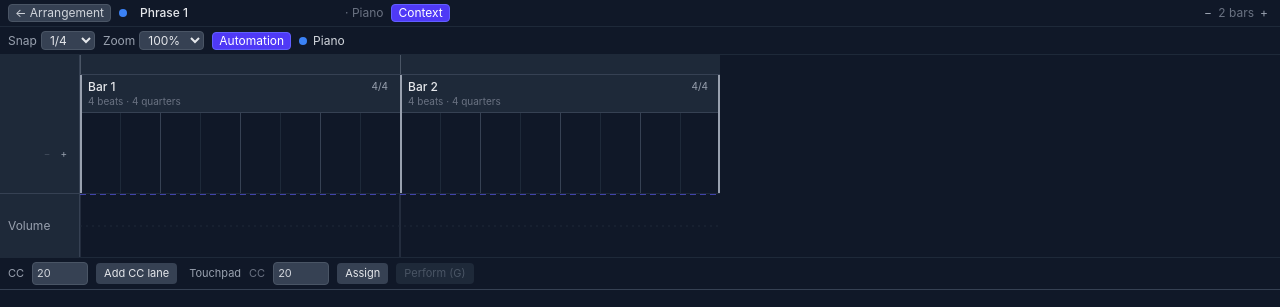
Test case: ChordTimeline volume automation lane › hides the lane, and its gutter label, when toggled off
Step 1. Click the button with aria-label "Automation lanes" → (252, 40), box [212,32,291,50]
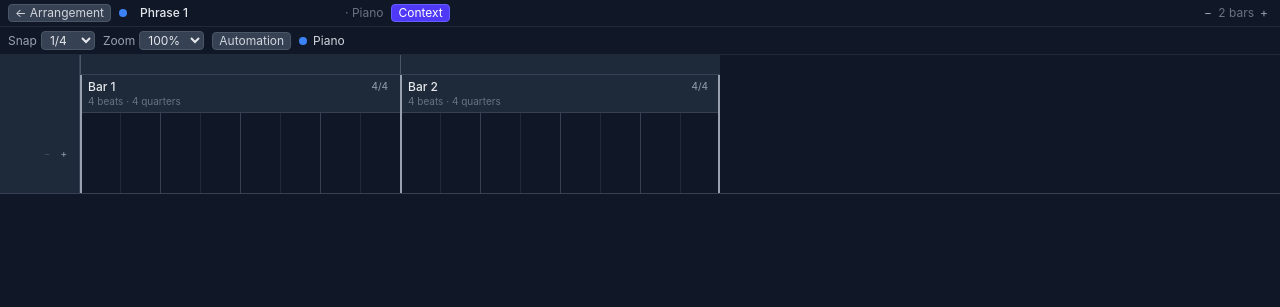
Result: the element with test id "automation-lane" is gone
Result: the text "Volume" is gone
